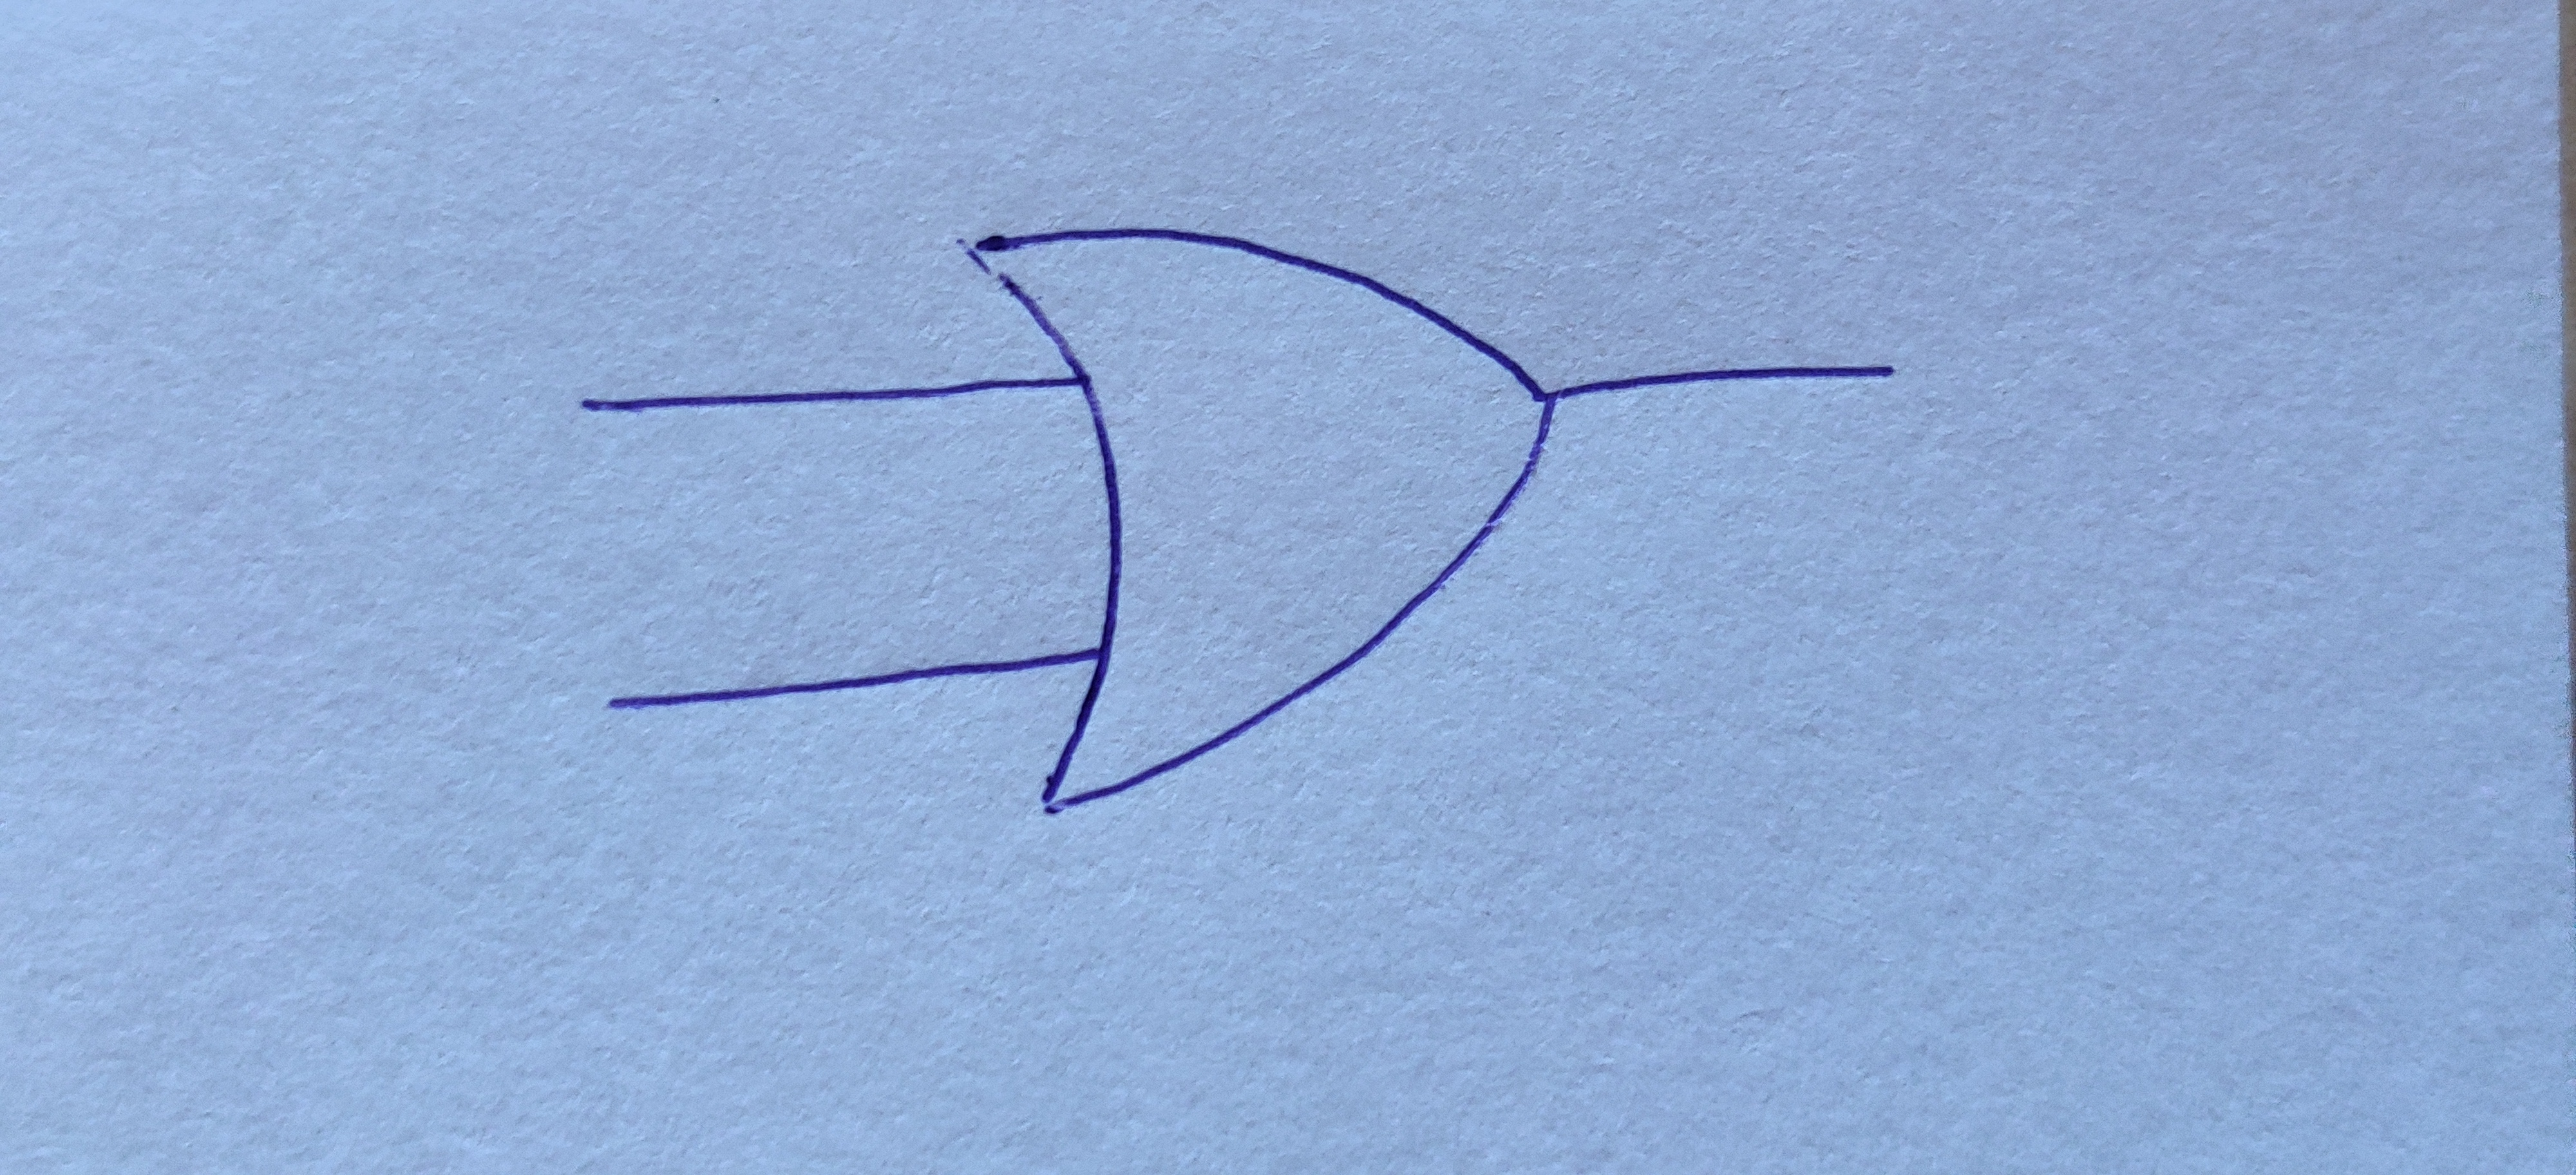or: (964, 228, 1554, 812)
